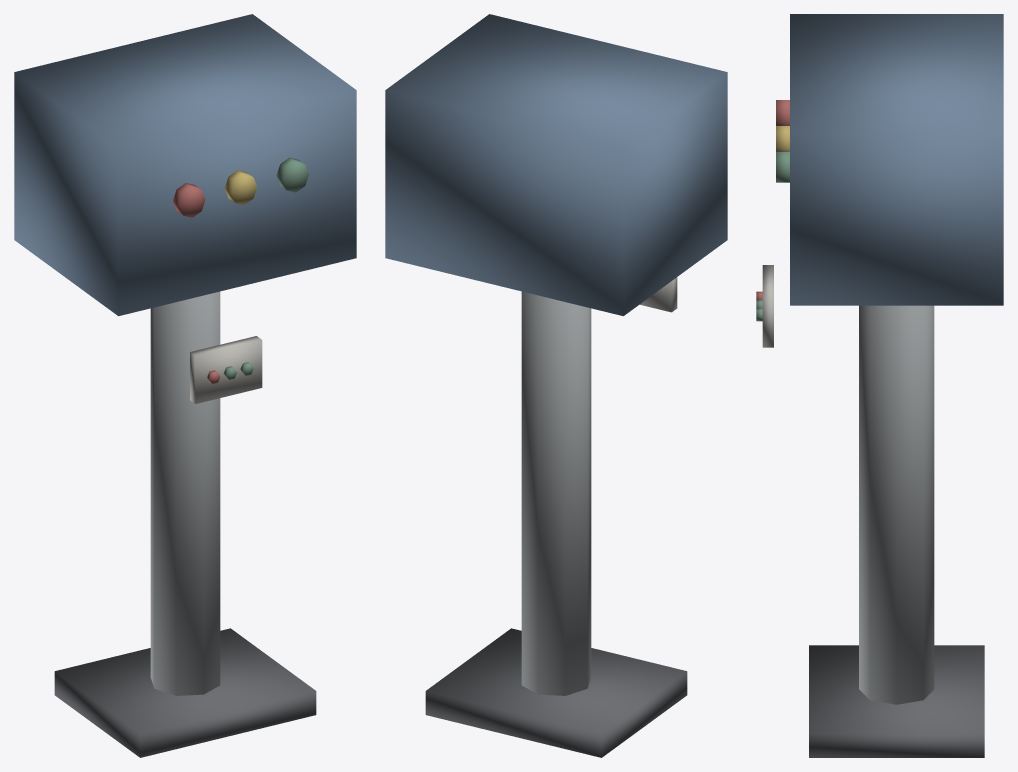
Rendered from pedestal_machine_control__compact.glb.
3 renders of one model, left to right at view 1: azimuth 30°, elevation 25°; view 2: azimuth 150°, elevation 25°; view 3: azimuth 270°, elevation 25°, orthographic. The views are drawn at different scales.
Parts seen in each view (by area): view 1: world; view 2: world; view 3: world.
Part boxes in pixels (x1,y1,x2,y2): world: [14, 14, 356, 757]; world: [385, 14, 727, 757]; world: [756, 14, 1003, 757].
Size of the model in its own units: 0.3864 by 0.9672 by 0.3384.
